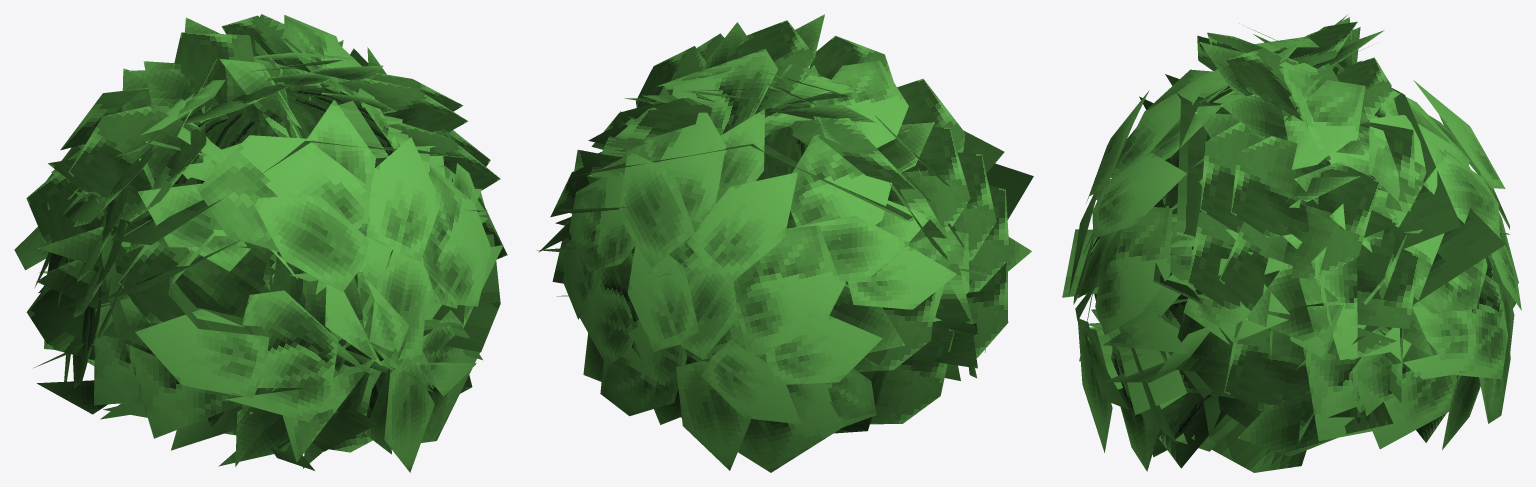
Rendered from bush-azalea-spring.glb.
The picture shows the model from 3 angles, left to right: view 1: azimuth 30°, elevation 25°; view 2: azimuth 150°, elevation 25°; view 3: azimuth 270°, elevation 25°; orthographic projection. The views are drawn at different scales.
Parts seen in each view (by area): view 1: bush-azalea-spring; view 2: bush-azalea-spring; view 3: bush-azalea-spring.
Boxes of the visible parts, <box> form: bush-azalea-spring: <box>14,14,507,472</box>; bush-azalea-spring: <box>536,14,1033,472</box>; bush-azalea-spring: <box>1062,14,1521,472</box>.
Bounding box in the file's own units: 1.09 × 0.9104 × 0.9824.
Materials: 1 (1 with a texture image).
